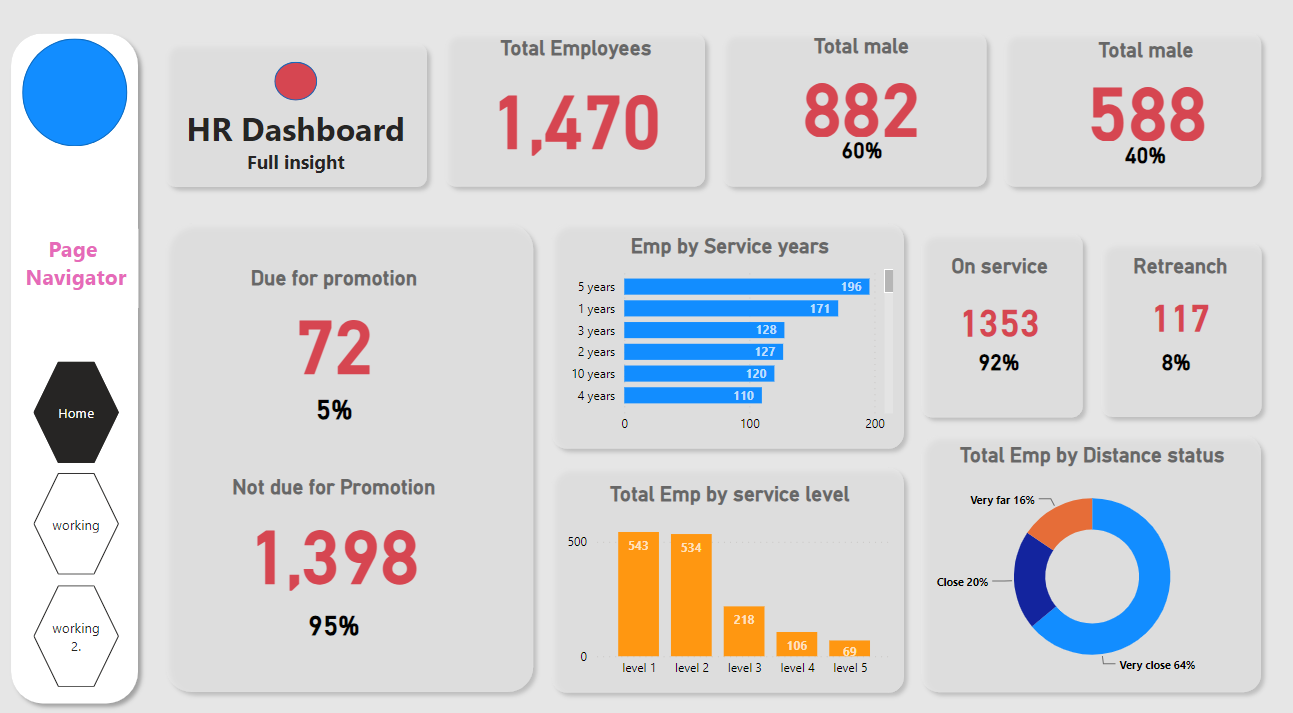

The page's visual inventory and layout, read from the dashboard file:
{"tool":"powerbi","page":{"name":"Home","canvas":[1280,720],"ordinal":0},"visuals":[{"type":"shape","box":[0,30.2,144.1,683.4],"z":0},{"type":"shape","box":[153.7,39.8,277.2,160.5],"z":1000},{"type":"shape","box":[430.9,30.2,275.8,170.2],"z":2000},{"type":"shape","box":[706.7,30.2,279.9,170.2],"z":3000},{"type":"shape","box":[986.6,30.2,273.1,170.2],"z":4000},{"type":"shape","box":[153.7,219.6,382.8,483],"z":5000},{"type":"shape","box":[536.5,219.6,367.8,241.5],"z":6000},{"type":"shape","box":[536.5,461.1,367.8,241.5],"z":7000},{"type":"shape","box":[904.3,229.2,178.4,200.3],"z":8000},{"type":"shape","box":[904.3,429.5,355.4,273.1],"z":9000},{"type":"shape","box":[1082.7,238.8,177,190.7],"z":10000},{"type":"textbox","box":[168.8,107,245.6,90.6],"z":11000},{"type":"shape","box":[270.3,67.2,42.5,38.4],"z":12000},{"type":"card","title":"Total Employees","fields":{"Values":["All Measures.Total Emp"]},"box":[444.6,42.5,251.1,126.2],"z":13000},{"type":"card","title":"Total male","fields":{"Values":["All Measures.Male"]},"box":[728.1,40.1,251.1,107],"z":14000},{"type":"card","fields":{"Values":["All Measures.% male"]},"box":[756.9,116.9,193.5,76.8],"z":15000},{"type":"card","title":"On service","fields":{"Values":["All Measures.On service"]},"box":[933.1,258,115.3,107],"z":16000},{"type":"card","fields":{"Values":["All Measures.% On service"]},"box":[952.3,326.6,75.5,76.8],"z":17000},{"type":"card","title":"Due for promotion","fields":{"Values":["All Measures.Due for Promotion"]},"box":[186.6,270.3,285.4,116.6],"z":18000},{"type":"card","fields":{"Values":["All Measures.% Not due for promotion"]},"box":[179.8,387,299.1,48],"z":19000},{"type":"card","title":"Not due for Promotion","fields":{"Values":["All Measures.Not Due for Promotion"]},"box":[179.8,477.5,299.1,120.8],"z":20000},{"type":"card","fields":{"Values":["All Measures.% Not due"]},"box":[179.8,598.3,299.1,56.3],"z":21000},{"type":"barChart","title":"Emp by Service years","fields":{"Category":["HR Analytics Data.service year"],"Y":["All Measures.Total Emp"]},"box":[555.7,238.8,333.4,207.2],"z":22000},{"type":"columnChart","title":"Total Emp by service level","fields":{"Category":["HR Analytics Data.Service level"],"Y":["All Measures.Total Emp"]},"box":[555.7,484.4,333.4,203.1],"z":23000},{"type":"card","title":"Total male","fields":{"Values":["All Measures.Female"]},"box":[1010.3,44.6,251.1,107],"z":24000},{"type":"card","fields":{"Values":["All Measures.% female"]},"box":[1039.2,121.4,193.5,76.8],"z":25000},{"type":"card","title":"Retreanch","fields":{"Values":["All Measures.Retaired"]},"box":[1108.3,258.1,124.2,98.9],"z":26000},{"type":"card","fields":{"Values":["All Measures.% Retaired"]},"box":[1128,326.6,75.5,76.8],"z":27000},{"type":"donutChart","fields":{"Category":["HR Analytics Data.Distance status"],"Y":["All Measures.Total Emp"]},"box":[918,446,329.3,241.5],"z":28000},{"type":"pageNavigator","box":[31.4,365.4,85.6,323.2],"z":29000},{"type":"textbox","box":[11,233.3,124.9,78.2],"z":30000},{"type":"shape","box":[20.6,43.9,104.3,107],"z":31000}]}

Visuals, with their boxes in screenshot pixels (x1, y1, x2, y2), scaled from the page's 1280x720 canvas onto the 1293x713 screenshot:
shape: <box>0,30,146,707</box>
shape: <box>155,39,435,198</box>
shape: <box>435,30,714,198</box>
shape: <box>714,30,997,198</box>
shape: <box>997,30,1272,198</box>
shape: <box>155,217,542,696</box>
shape: <box>542,217,913,457</box>
shape: <box>542,457,913,696</box>
shape: <box>913,227,1094,425</box>
shape: <box>913,425,1272,696</box>
shape: <box>1094,236,1272,425</box>
textbox: <box>171,106,419,196</box>
shape: <box>273,67,316,105</box>
"Total Employees" card: <box>449,42,703,167</box>
"Total male" card: <box>735,40,989,146</box>
card - All Measures.% male: <box>765,116,960,192</box>
"On service" card: <box>943,255,1059,361</box>
card - All Measures.% On service: <box>962,323,1038,399</box>
"Due for promotion" card: <box>188,268,477,383</box>
card - All Measures.% Not due for promotion: <box>182,383,484,431</box>
"Not due for Promotion" card: <box>182,473,484,592</box>
card - All Measures.% Not due: <box>182,592,484,648</box>
"Emp by Service years" barChart: <box>561,236,898,442</box>
"Total Emp by service level" columnChart: <box>561,480,898,681</box>
"Total male" card: <box>1021,44,1274,150</box>
card - All Measures.% female: <box>1050,120,1245,196</box>
"Retreanch" card: <box>1120,256,1245,354</box>
card - All Measures.% Retaired: <box>1139,323,1216,399</box>
donutChart - HR Analytics Data.Distance status x All Measures.Total Emp: <box>927,442,1260,681</box>
pageNavigator: <box>32,362,118,682</box>
textbox: <box>11,231,137,308</box>
shape: <box>21,43,126,149</box>
